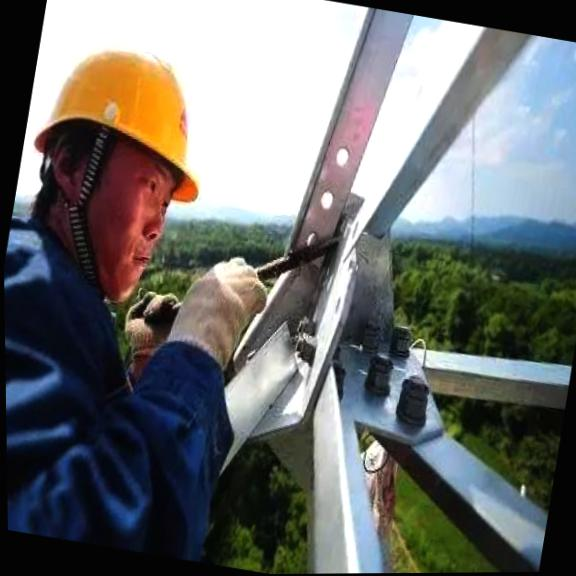no_safety_vest: (3, 224, 284, 569)
